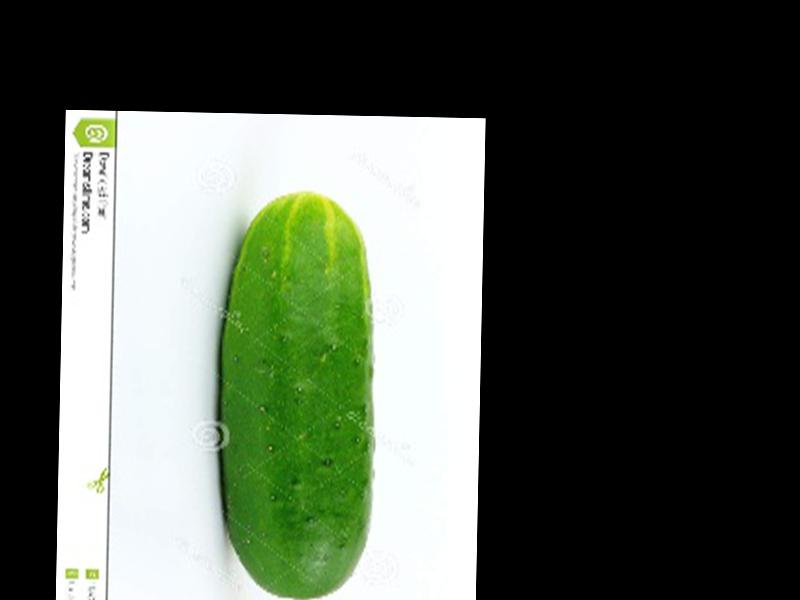Cucumber: (214, 192, 376, 600)
